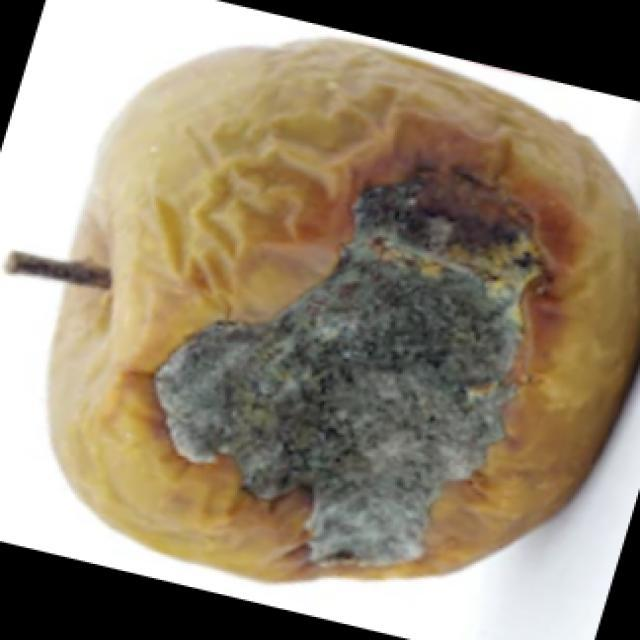Rotten: (75, 47, 640, 598)
